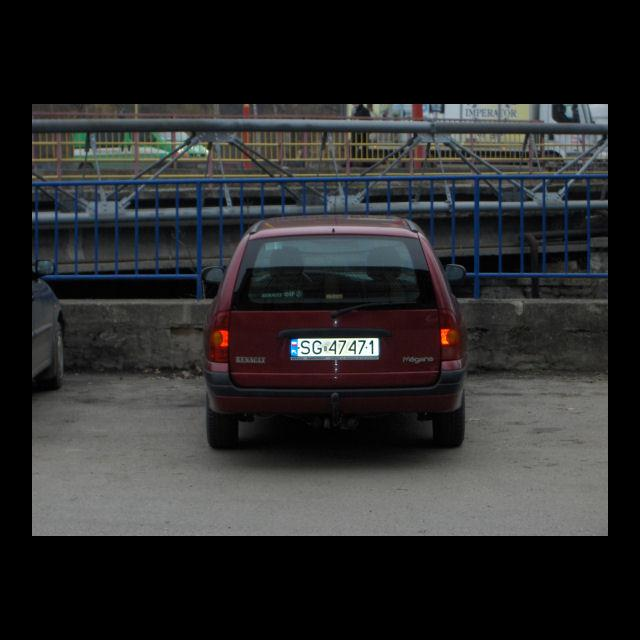Plate: (288, 335, 380, 359)
